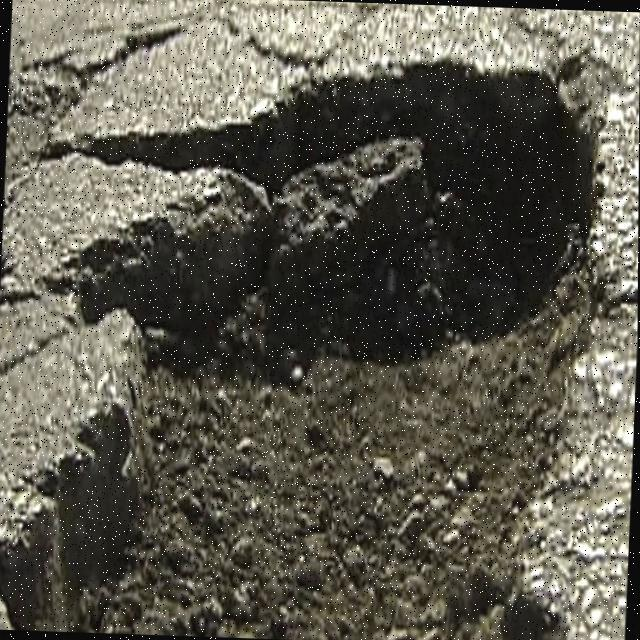pothole: (0, 26, 616, 640)
